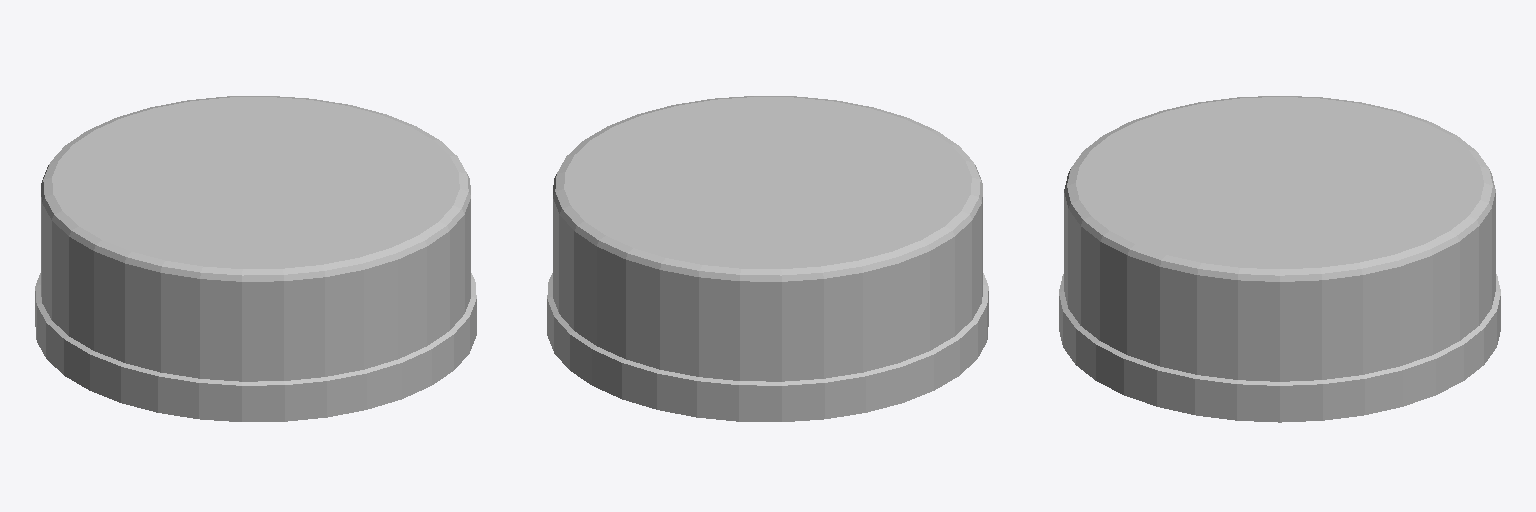
The model's file is mdl_tapa_noname_03_02.obj.
3 views of the same model, side by side, from view 1: azimuth 30°, elevation 25°; view 2: azimuth 150°, elevation 25°; view 3: azimuth 270°, elevation 25° (orthographic).
Visible parts, largest first — view 1: mdl_tapa_nocarbonatada_33mm010; view 2: mdl_tapa_nocarbonatada_33mm010; view 3: mdl_tapa_nocarbonatada_33mm010.
Boxes of the visible parts, <box> form: mdl_tapa_nocarbonatada_33mm010: <box>35,96,476,421</box>; mdl_tapa_nocarbonatada_33mm010: <box>547,96,988,421</box>; mdl_tapa_nocarbonatada_33mm010: <box>1059,96,1500,422</box>.
Bounding box in the file's own units: 4.11 × 1.5 × 4.11.